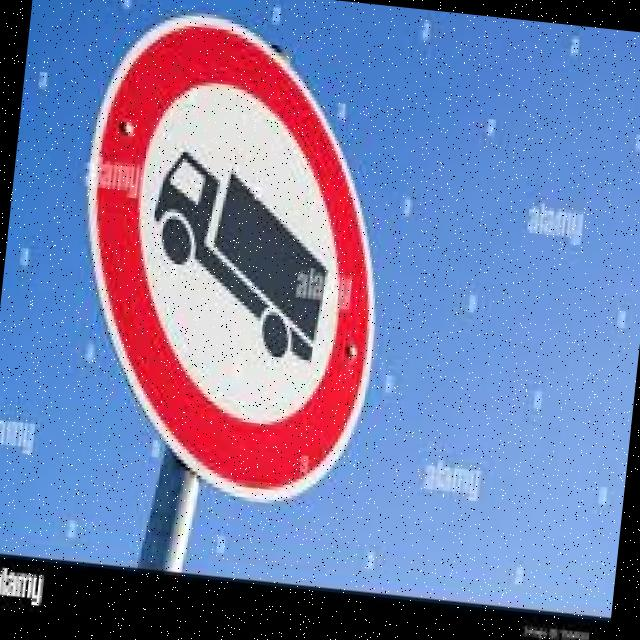do_not_enter: (44, 0, 419, 519)
